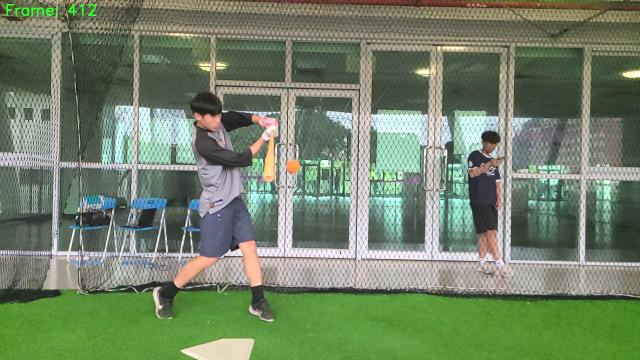bat: (263, 131, 275, 182)
